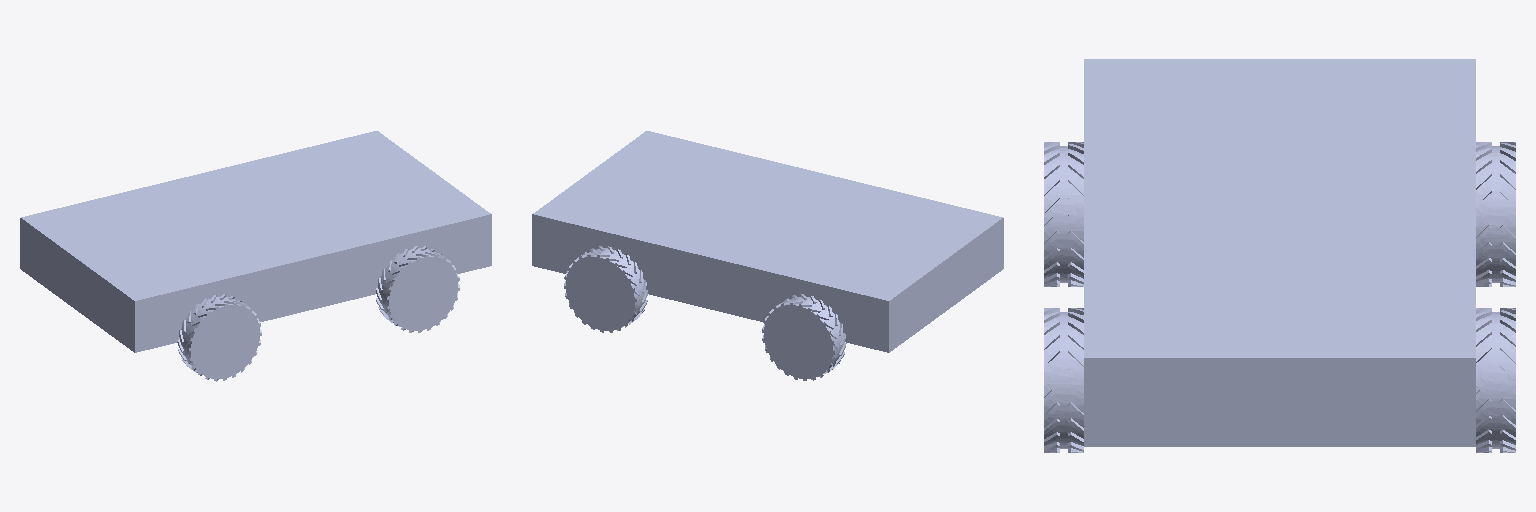
robot.urdf — four_wheel_robot:
<?xml version="1.0" encoding="utf-8"?>
<!-- This URDF was automatically created by SolidWorks to URDF Exporter! Originally created by [author] ([email redacted]) 
     Commit Version: 1.5.1-0-g916b5db  Build Version: 1.5.7152.31018
     For more information, please see http://wiki.ros.org/sw_urdf_exporter -->
<robot
  name="four_wheel_robot">
  <link
    name="base_link">
    <inertial>
      <origin
        xyz="0.05 -1.3878E-17 0.030998"
        rpy="0 0 0" />
      <mass
        value="0.45" />
      <inertia
        ixx="0.00039844"
        ixy="-2.1178E-21"
        ixz="2.9271E-20"
        iyy="0.0012384"
        iyz="-6.1069E-21"
        izz="0.00159" />
    </inertial>
    <visual>
      <origin
        xyz="0 0 0"
        rpy="0 0 0" />
      <geometry>
        <mesh
          filename="package://four_wheel_robot/meshes/base_link.STL" />
      </geometry>
      <material
        name="">
        <color
          rgba="0.79216 0.81961 0.93333 1" />
      </material>
    </visual>
    <collision>
      <origin
        xyz="0 0 0"
        rpy="0 0 0" />
      <geometry>
        <mesh
          filename="package://four_wheel_robot/meshes/base_link.STL" />
      </geometry>
    </collision>
  </link>
  <link
    name="front_left_wheel">
    <inertial>
      <origin
        xyz="1.38777878078145E-17 -6.69415018209052E-11 6.93889390390723E-18"
        rpy="0 0 0" />
      <mass
        value="0.00990169279271559" />
      <inertia
        ixx="8.65452858231311E-07"
        ixy="1.33058737265187E-22"
        ixz="1.76283275501757E-21"
        iyy="1.5642085430632E-06"
        iyz="-2.8847697276615E-22"
        izz="8.65452858231313E-07" />
    </inertial>
    <visual>
      <origin
        xyz="0 0 0"
        rpy="0 0 0" />
      <geometry>
        <mesh
          filename="package://four_wheel_robot/meshes/front_left_wheel.STL" />
      </geometry>
      <material
        name="">
        <color
          rgba="0.792156862745098 0.819607843137255 0.933333333333333 1" />
      </material>
    </visual>
    <collision>
      <origin
        xyz="0 0 0"
        rpy="0 0 0" />
      <geometry>
        <mesh
          filename="package://four_wheel_robot/meshes/front_left_wheel.STL" />
      </geometry>
    </collision>
  </link>
  <joint
    name="front_left_joint"
    type="continuous">
    <origin
      xyz="0.1 0.055 0.018498"
      rpy="0 0 0" />
    <parent
      link="base_link" />
    <child
      link="front_left_wheel" />
    <axis
      xyz="0 -1 0" />
  </joint>
  <link
    name="front_right_wheel">
    <inertial>
      <origin
        xyz="0 -6.69414940146495E-11 3.46944695195361E-18"
        rpy="0 0 0" />
      <mass
        value="0.00990169279271557" />
      <inertia
        ixx="8.65452858231309E-07"
        ixy="-2.01771669230345E-22"
        ixz="5.16306307023527E-22"
        iyy="1.56420854306319E-06"
        iyz="2.20959927831126E-22"
        izz="8.65452858231313E-07" />
    </inertial>
    <visual>
      <origin
        xyz="0 0 0"
        rpy="0 0 0" />
      <geometry>
        <mesh
          filename="package://four_wheel_robot/meshes/front_right_wheel.STL" />
      </geometry>
      <material
        name="">
        <color
          rgba="0.792156862745098 0.819607843137255 0.933333333333333 1" />
      </material>
    </visual>
    <collision>
      <origin
        xyz="0 0 0"
        rpy="0 0 0" />
      <geometry>
        <mesh
          filename="package://four_wheel_robot/meshes/front_right_wheel.STL" />
      </geometry>
    </collision>
  </link>
  <joint
    name="front_right_joint"
    type="continuous">
    <origin
      xyz="0.1 -0.055 0.018498"
      rpy="0 0 0" />
    <parent
      link="base_link" />
    <child
      link="front_right_wheel" />
    <axis
      xyz="0 -1 0" />
  </joint>
  <link
    name="back_left_wheel">
    <inertial>
      <origin
        xyz="5.55111512312578E-17 -6.69415061577139E-11 1.04083408558608E-17"
        rpy="0 0 0" />
      <mass
        value="0.00990169279271561" />
      <inertia
        ixx="8.65452858231315E-07"
        ixy="-1.24441862790545E-21"
        ixz="-1.72615387836835E-22"
        iyy="1.5642085430632E-06"
        iyz="-7.67656340440061E-22"
        izz="8.65452858231314E-07" />
    </inertial>
    <visual>
      <origin
        xyz="0 0 0"
        rpy="0 0 0" />
      <geometry>
        <mesh
          filename="package://four_wheel_robot/meshes/back_left_wheel.STL" />
      </geometry>
      <material
        name="">
        <color
          rgba="0.792156862745098 0.819607843137255 0.933333333333333 1" />
      </material>
    </visual>
    <collision>
      <origin
        xyz="0 0 0"
        rpy="0 0 0" />
      <geometry>
        <mesh
          filename="package://four_wheel_robot/meshes/back_left_wheel.STL" />
      </geometry>
    </collision>
  </link>
  <joint
    name="back_left_joint"
    type="continuous">
    <origin
      xyz="0 0.055 0.018498"
      rpy="0 0 0" />
    <parent
      link="base_link" />
    <child
      link="back_left_wheel" />
    <axis
      xyz="0 -1 0" />
  </joint>
  <link
    name="back_right_wheel">
    <inertial>
      <origin
        xyz="2.77555756156289E-17 -6.69414940146495E-11 2.08166817117217E-17"
        rpy="0 0 0" />
      <mass
        value="0.00990169279271554" />
      <inertia
        ixx="8.65452858231308E-07"
        ixy="-6.00695507355112E-22"
        ixz="-2.43014597196212E-21"
        iyy="1.56420854306319E-06"
        iyz="-4.0698282296225E-22"
        izz="8.65452858231311E-07" />
    </inertial>
    <visual>
      <origin
        xyz="0 0 0"
        rpy="0 0 0" />
      <geometry>
        <mesh
          filename="package://four_wheel_robot/meshes/back_right_wheel.STL" />
      </geometry>
      <material
        name="">
        <color
          rgba="0.792156862745098 0.819607843137255 0.933333333333333 1" />
      </material>
    </visual>
    <collision>
      <origin
        xyz="0 0 0"
        rpy="0 0 0" />
      <geometry>
        <mesh
          filename="package://four_wheel_robot/meshes/back_right_wheel.STL" />
      </geometry>
    </collision>
  </link>
  <joint
    name="back_right_joint"
    type="continuous">
    <origin
      xyz="0 -0.055 0.018498"
      rpy="0 0 0" />
    <parent
      link="base_link" />
    <child
      link="back_right_wheel" />
    <axis
      xyz="0 -1 0" />
  </joint>
</robot>

--- Render facts (derived) ---
3 views of the same robot in one strip: view 1: azimuth 30°, elevation 25°; view 2: azimuth 150°, elevation 25°; view 3: azimuth 270°, elevation 25° (orthographic).
Model four_wheel_robot with 5 links and 4 joints (4 continuous), rooted at base_link, posed all joints at 0.
Visible links, largest first — view 1: base_link, front_right_wheel, back_right_wheel; view 2: base_link, front_left_wheel, back_left_wheel; view 3: base_link, front_left_wheel, front_right_wheel, back_left_wheel, back_right_wheel.
Boxes of the visible links, x1,y1,x2,y2 form: base_link: [20, 131, 491, 352]; front_right_wheel: [376, 246, 459, 332]; back_right_wheel: [177, 294, 261, 381]; base_link: [532, 131, 1003, 352]; front_left_wheel: [564, 246, 647, 332]; back_left_wheel: [762, 294, 846, 380]; base_link: [1084, 59, 1475, 446]; front_left_wheel: [1476, 308, 1515, 452]; front_right_wheel: [1044, 308, 1083, 452]; back_left_wheel: [1476, 142, 1515, 286]; back_right_wheel: [1044, 142, 1083, 286].
Bounding box of the posed robot: 0.18 × 0.12 × 0.0435 m (x, y, z).
5 mesh visuals loaded from 5 distinct referenced files (5 binary STL).